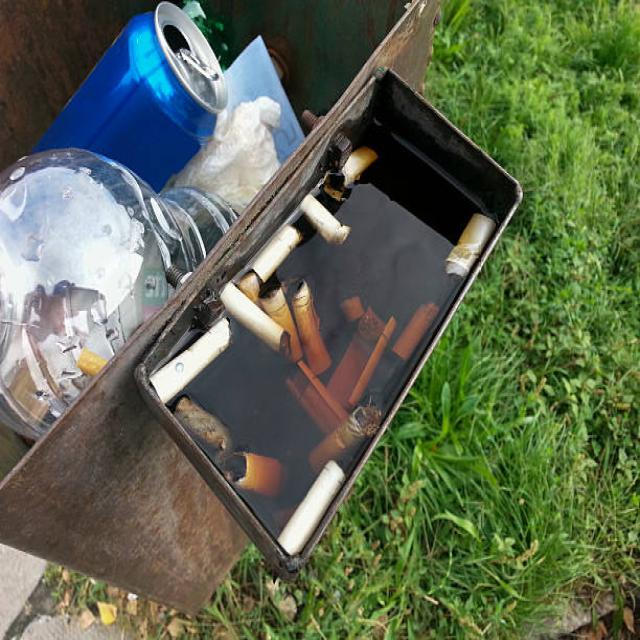metal: (75, 25, 255, 141)
